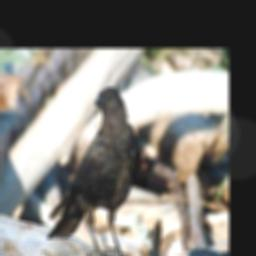Crow: (46, 84, 143, 256)
